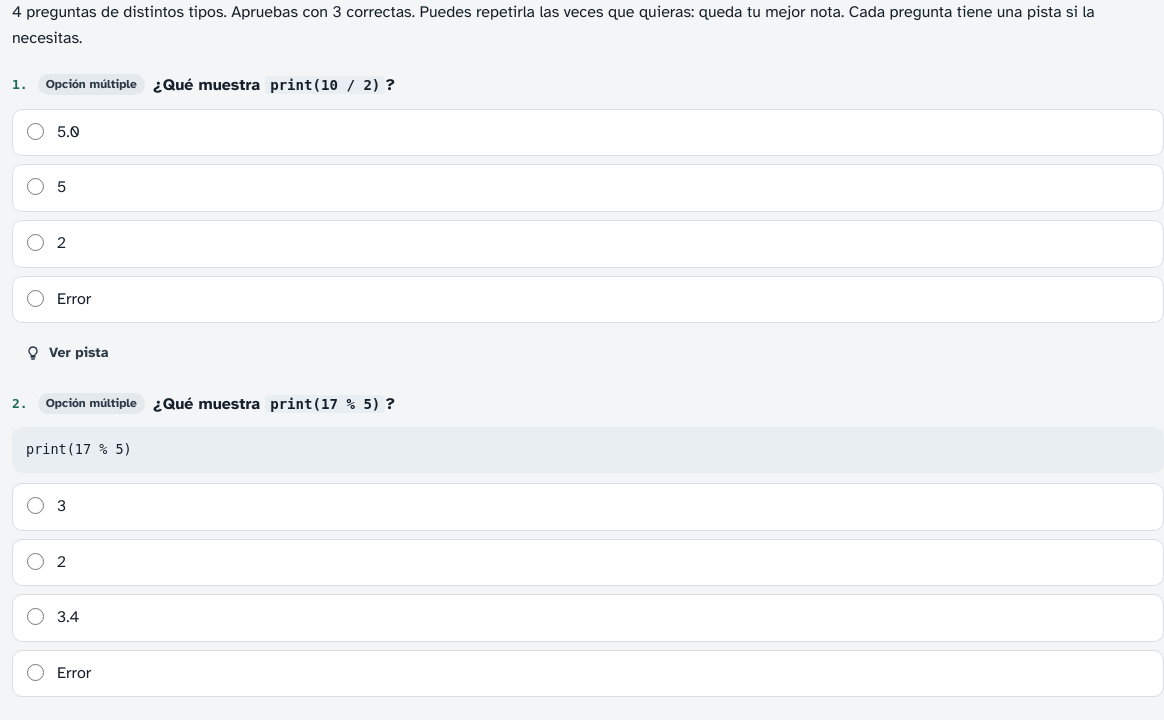
Test: Quiz › no califica hasta responder todas las preguntas, incluidas las de texto
The width and height of the screenshot is (1164, 720).
Click the radio button labelled "5.0": (36, 131) top-left (27, 123), bottom-right (44, 140)
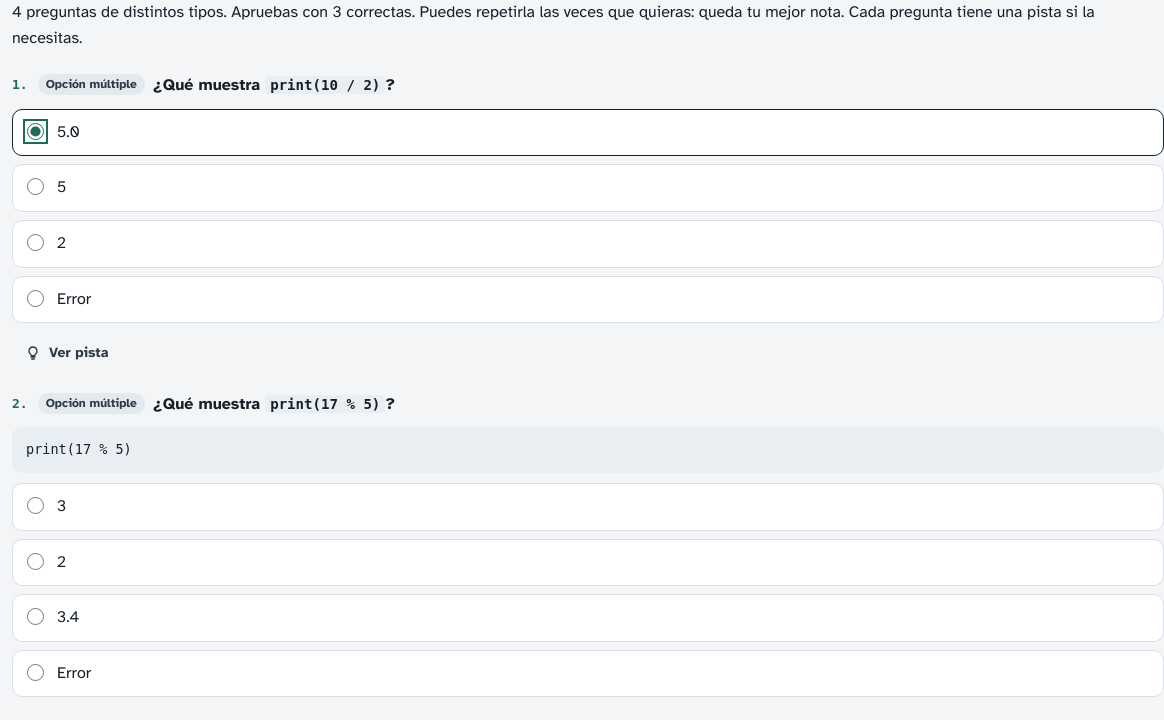
Click the radio button labelled "3": (36, 505) top-left (27, 497), bottom-right (44, 514)
(page scrolled)
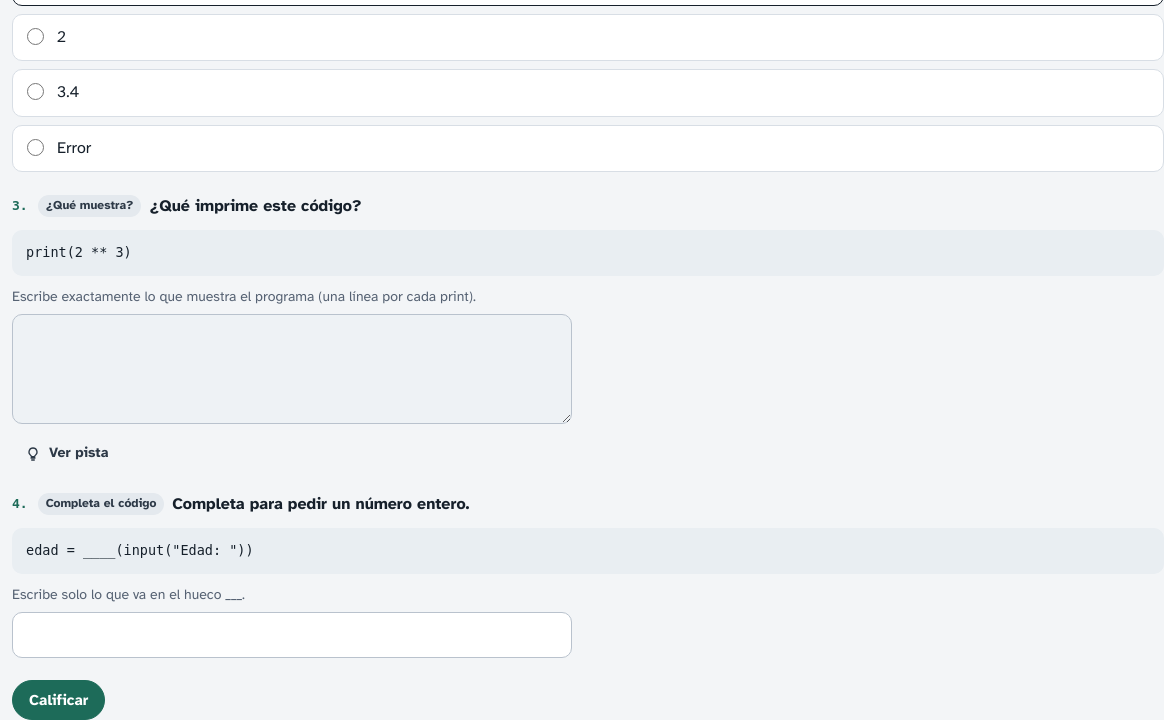
In the text box labelled "una línea por cada print": (292, 369) top-left (12, 314), bottom-right (572, 424), type "8"
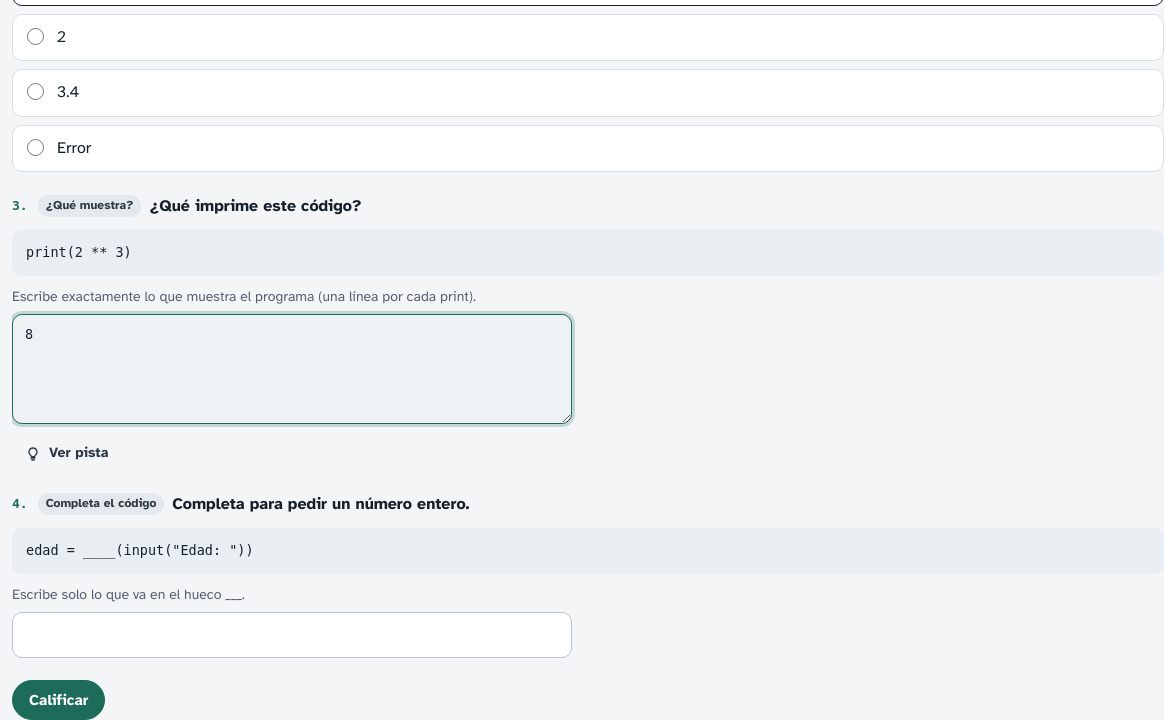
Click the button "Calificar": (59, 700) top-left (12, 680), bottom-right (105, 719)
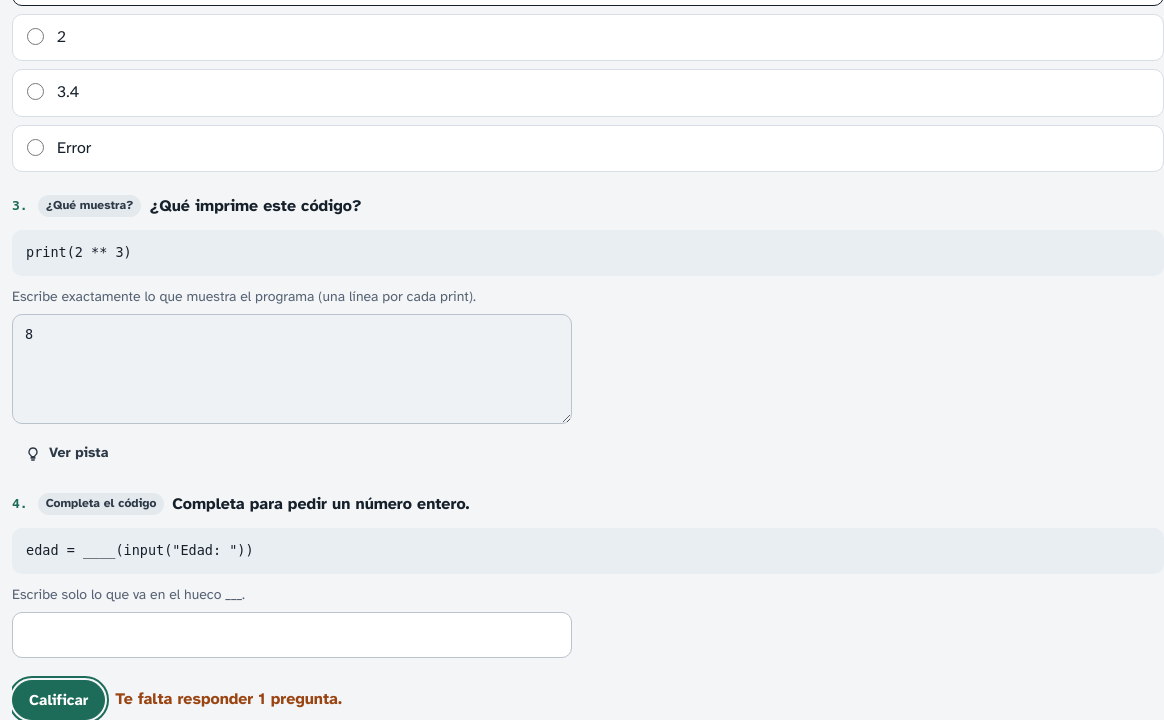
expect the message shows "Te falta responder 1 pregunta": met, box top-left (115, 689), bottom-right (342, 709)
